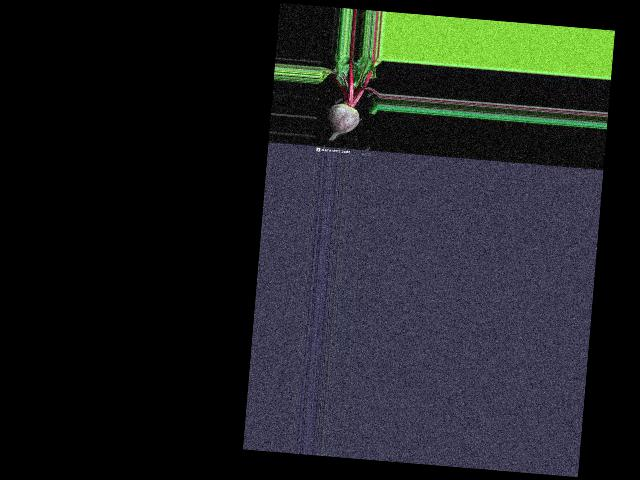beet: (314, 53, 382, 144)
